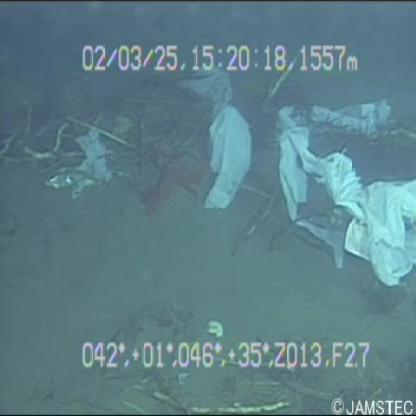Rác: (273, 91, 416, 290), (162, 61, 258, 221)
